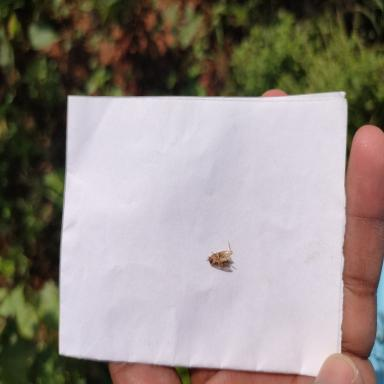pbw: (206, 242, 236, 272)
